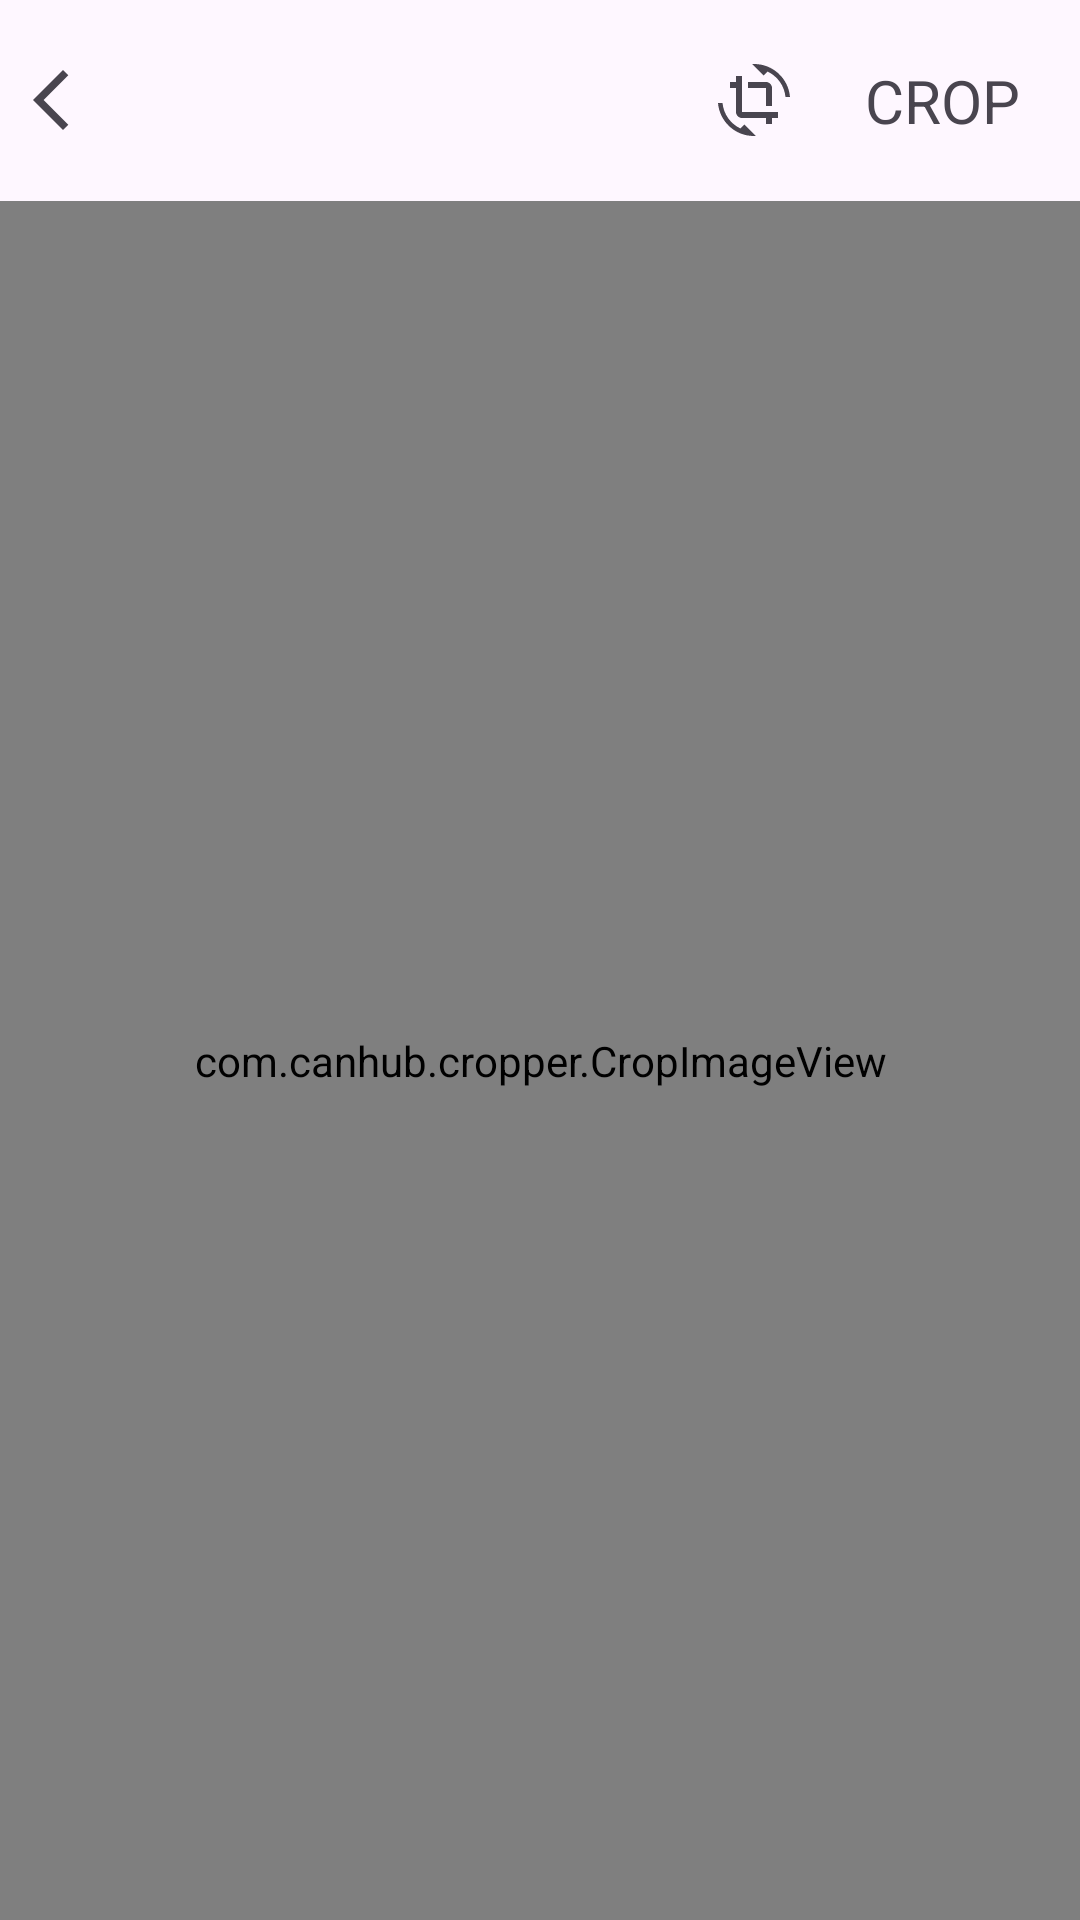

Screen size 1080x1920. Icon name, then its center in pixels as point (x, y):
arrow back: point (50, 100)
